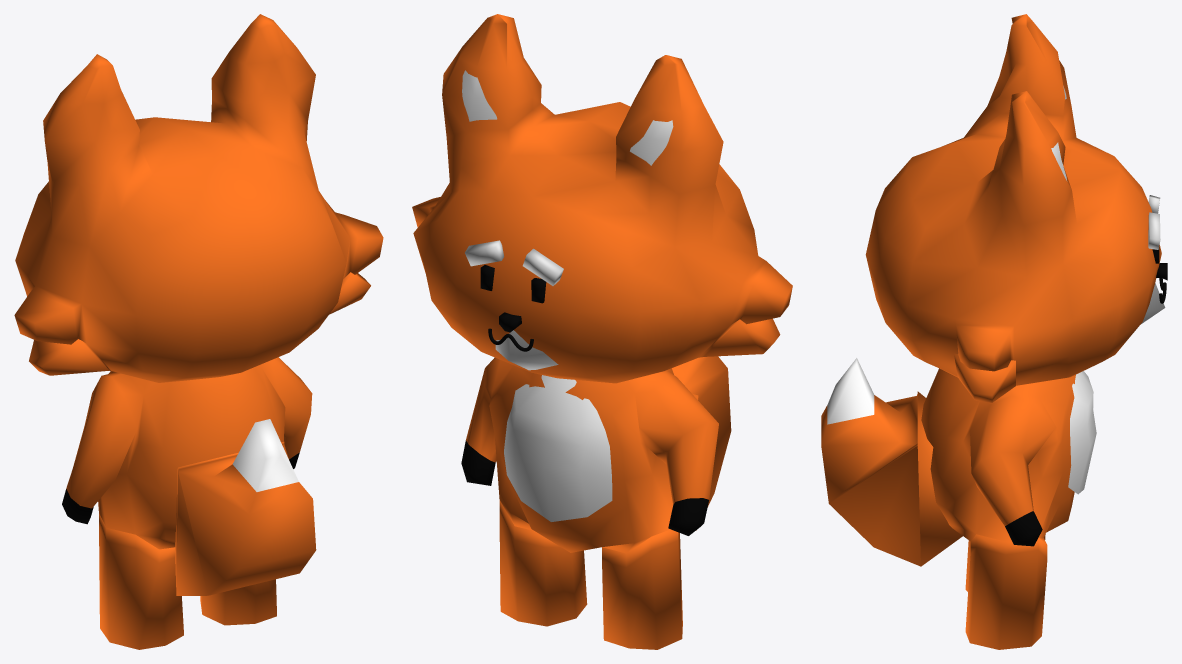
File: raposa_laranja.glb
The picture shows the model from 3 angles, left to right: view 1: azimuth 30°, elevation 25°; view 2: azimuth 150°, elevation 25°; view 3: azimuth 270°, elevation 25°; orthographic projection. The views are drawn at different scales.
Parts seen in each view (by area): view 1: Cube, Cube.001, Cubo.003; view 2: Cube, Cube.001, Cube.006, Cubo.003, Cube.003, Cubo, Cube.002, Cubo.001; view 3: Cube, Cube.001, Cubo.003, Cube.006, Cubo.
Boxes of the visible parts, x1=… form: Cube: x1=14, y1=14, x2=383, y2=382; Cube.001: x1=62, y1=357, x2=312, y2=649; Cubo.003: x1=175, y1=419, x2=316, y2=595; Cube: x1=412, y1=14, x2=792, y2=383; Cube.001: x1=461, y1=357, x2=718, y2=649; Cube.006: x1=504, y1=375, x2=612, y2=521; Cubo.003: x1=672, y1=356, x2=731, y2=530; Cube.003: x1=462, y1=70, x2=673, y2=165; Cubo: x1=465, y1=240, x2=563, y2=285; Cube.002: x1=495, y1=330, x2=558, y2=370; Cubo.001: x1=480, y1=265, x2=546, y2=303; Cube: x1=865, y1=14, x2=1161, y2=402; Cube.001: x1=921, y1=368, x2=1075, y2=649; Cubo.003: x1=821, y1=358, x2=962, y2=566; Cube.006: x1=1068, y1=371, x2=1096, y2=494; Cubo: x1=1148, y1=195, x2=1160, y2=249.
Size of the model in its own units: 2.33 by 3.54 by 1.99.
